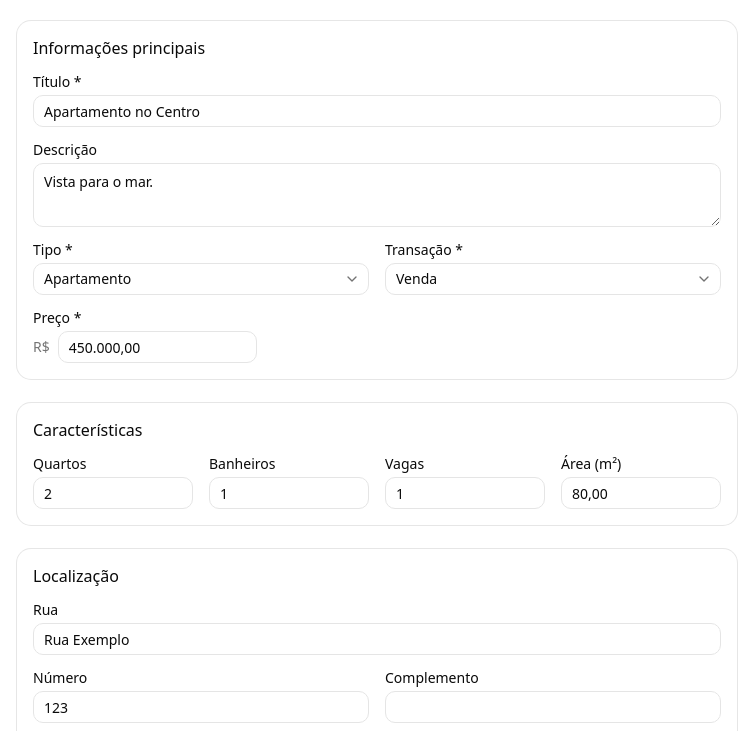
Test: EditPropertyPage › shows a safe error message and stays on the page when the mutation fails
The width and height of the screenshot is (755, 731).
Replace the text in the field labelled "Título *" with "Outro título" at (377, 111), box 33,95 -> 721,127
(page scrolled)
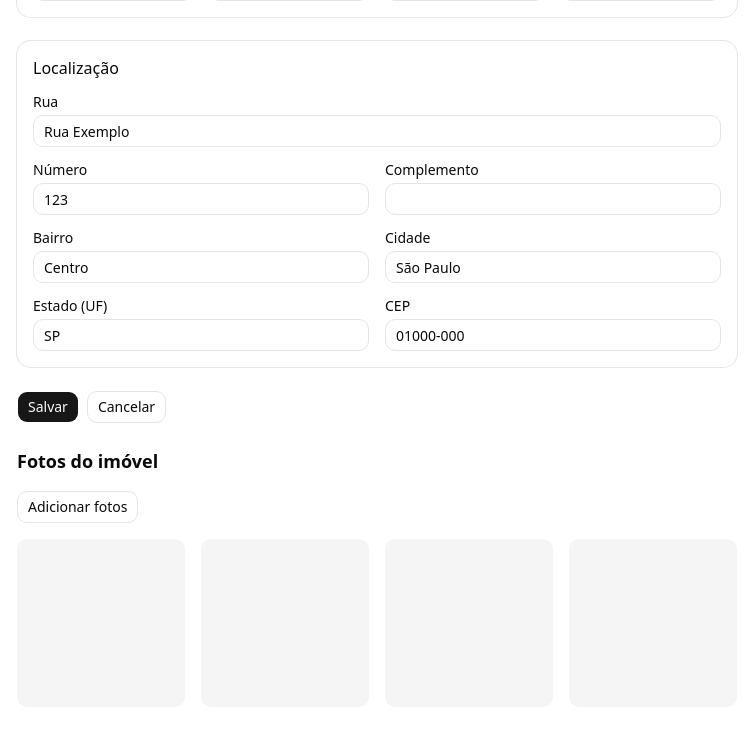
Click the button "Salvar" at (48, 407), box 17,391 -> 79,423
(page scrolled)
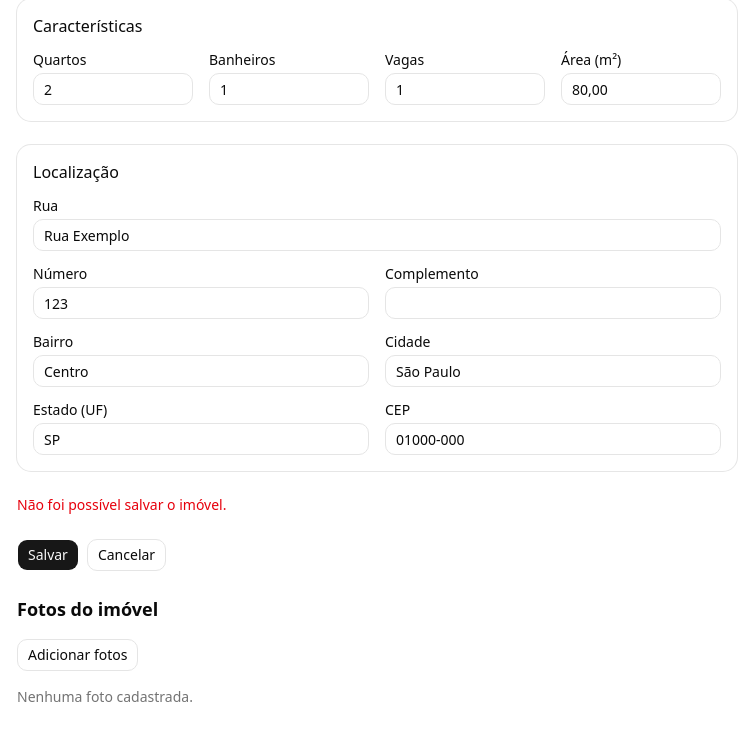
Expected: the text "Não foi possível salvar o imóvel." is shown, 17,495 -> 226,514
